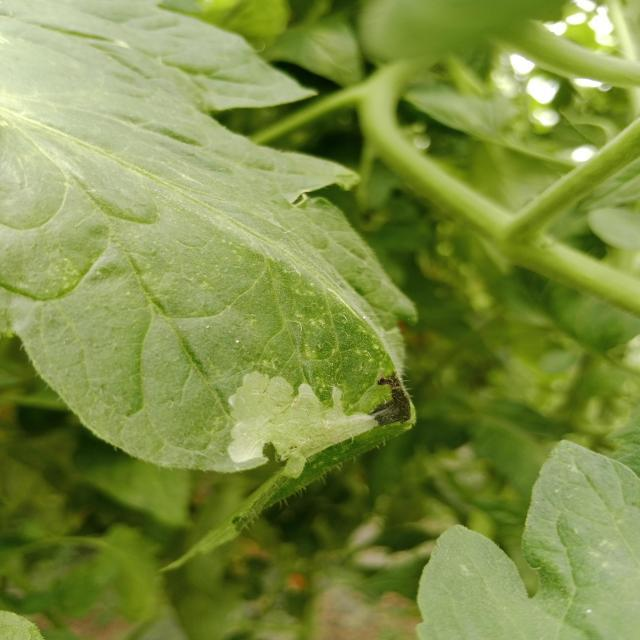Tuta absoluta: (216, 370, 378, 470)
